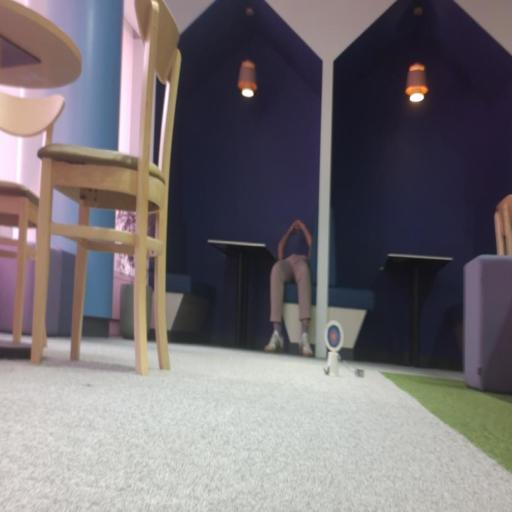target: (325, 321, 343, 351)
